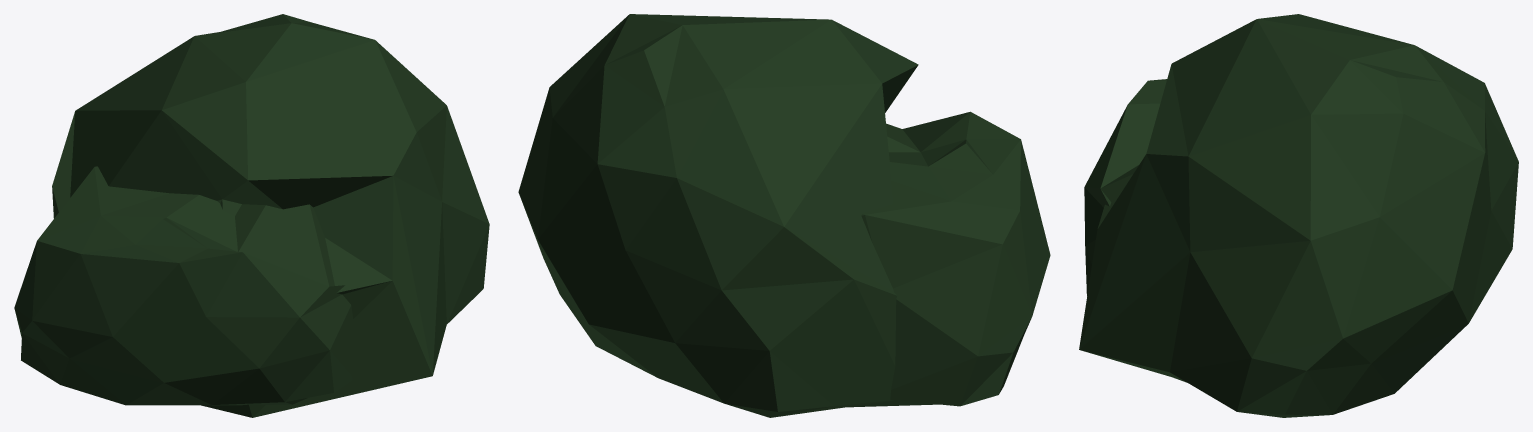
Rendered from SM_TestBush2.fbx.
The picture shows the model from 3 angles, left to right: view 1: azimuth 30°, elevation 25°; view 2: azimuth 150°, elevation 25°; view 3: azimuth 270°, elevation 25°; orthographic projection. The views are drawn at different scales.
Visible parts, largest first — view 1: pPlatonic4, pasted__pPlatonic4; view 2: pPlatonic4, pasted__pPlatonic4; view 3: pPlatonic4, pasted__pPlatonic4.
Part boxes in pixels (bbox=[...]): pPlatonic4: bbox=[52, 14, 489, 417]; pasted__pPlatonic4: bbox=[14, 166, 353, 405]; pPlatonic4: bbox=[518, 14, 918, 417]; pasted__pPlatonic4: bbox=[847, 111, 1050, 407]; pPlatonic4: bbox=[1079, 14, 1518, 417]; pasted__pPlatonic4: bbox=[1084, 79, 1166, 295].
Size of the model in its own units: 3.96 by 2.57 by 3.21.
